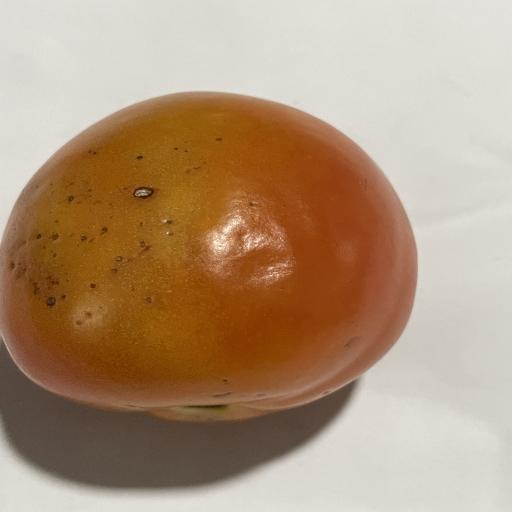overipe: (0, 93, 416, 422)
